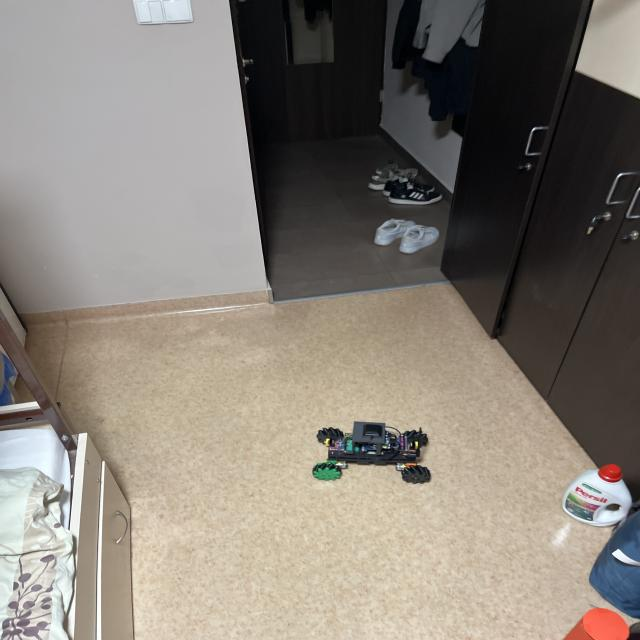robot: (313, 421, 431, 484)
